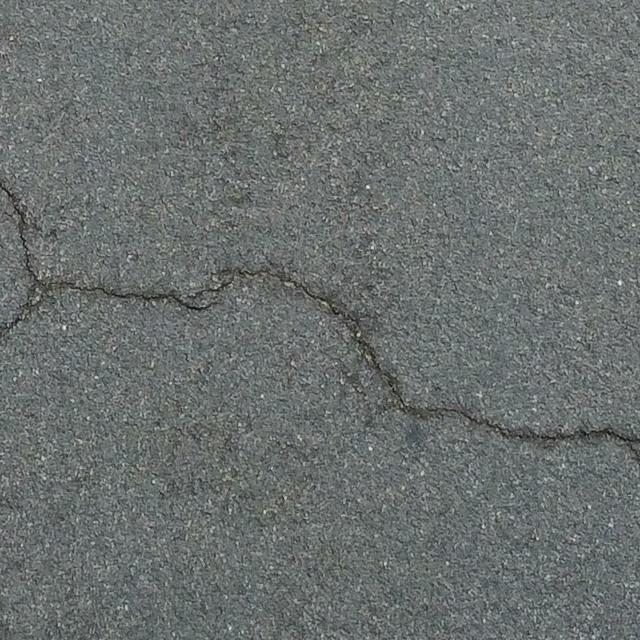TransverseCrack: (1, 186, 640, 457)
